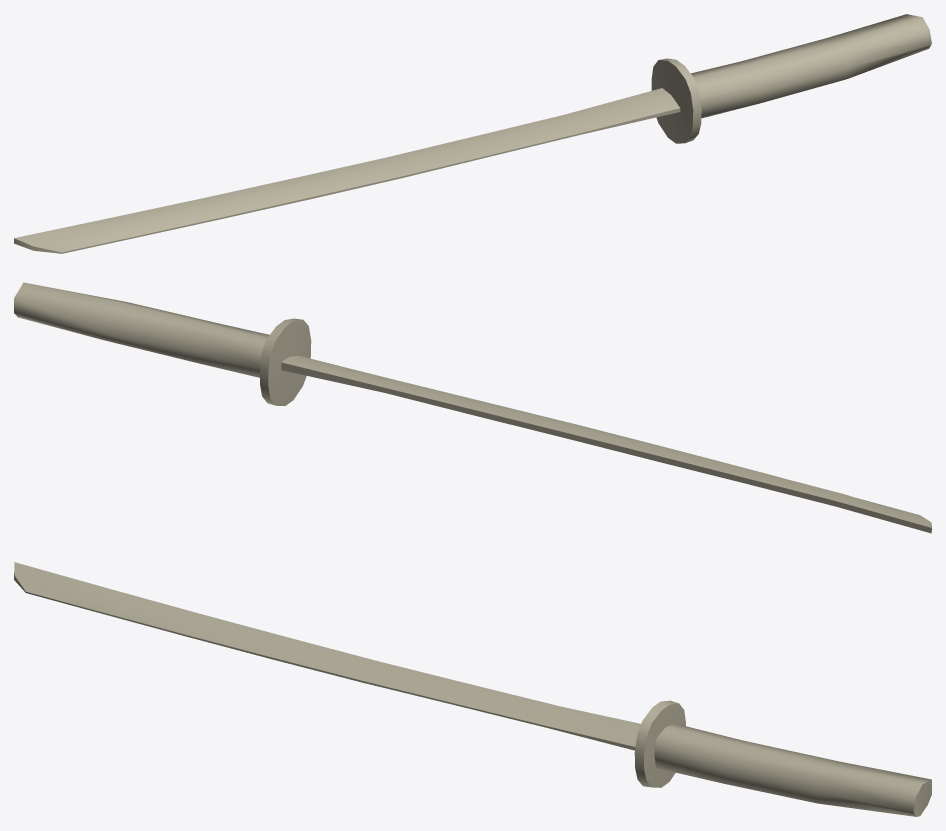
File: Katana_LP_Final.obj
The picture shows the model from 3 angles, top to bottom: view 1: azimuth 30°, elevation 25°; view 2: azimuth 150°, elevation 25°; view 3: azimuth 330°, elevation 25°; orthographic projection. The views are drawn at different scales.
Visible parts, largest first — view 1: headusOBJexport; view 2: headusOBJexport; view 3: headusOBJexport.
Part boxes in pixels (<box>): headusOBJexport: <box>14,14,931,253</box>; headusOBJexport: <box>14,282,931,533</box>; headusOBJexport: <box>14,562,931,816</box>.
Bounding box in the file's own units: 717 × 58.95 × 57.76.
